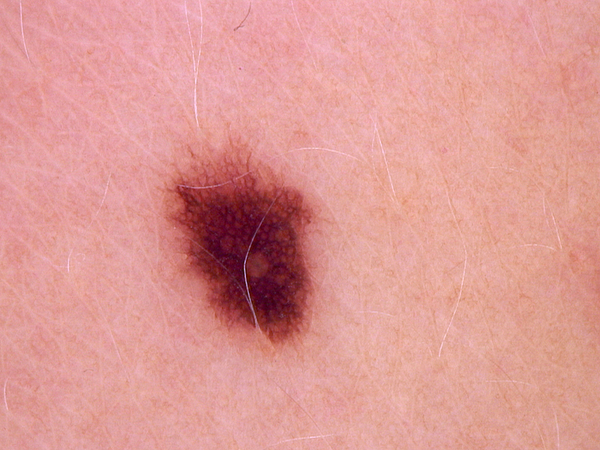Detected Lesion: (160, 140, 316, 350)
